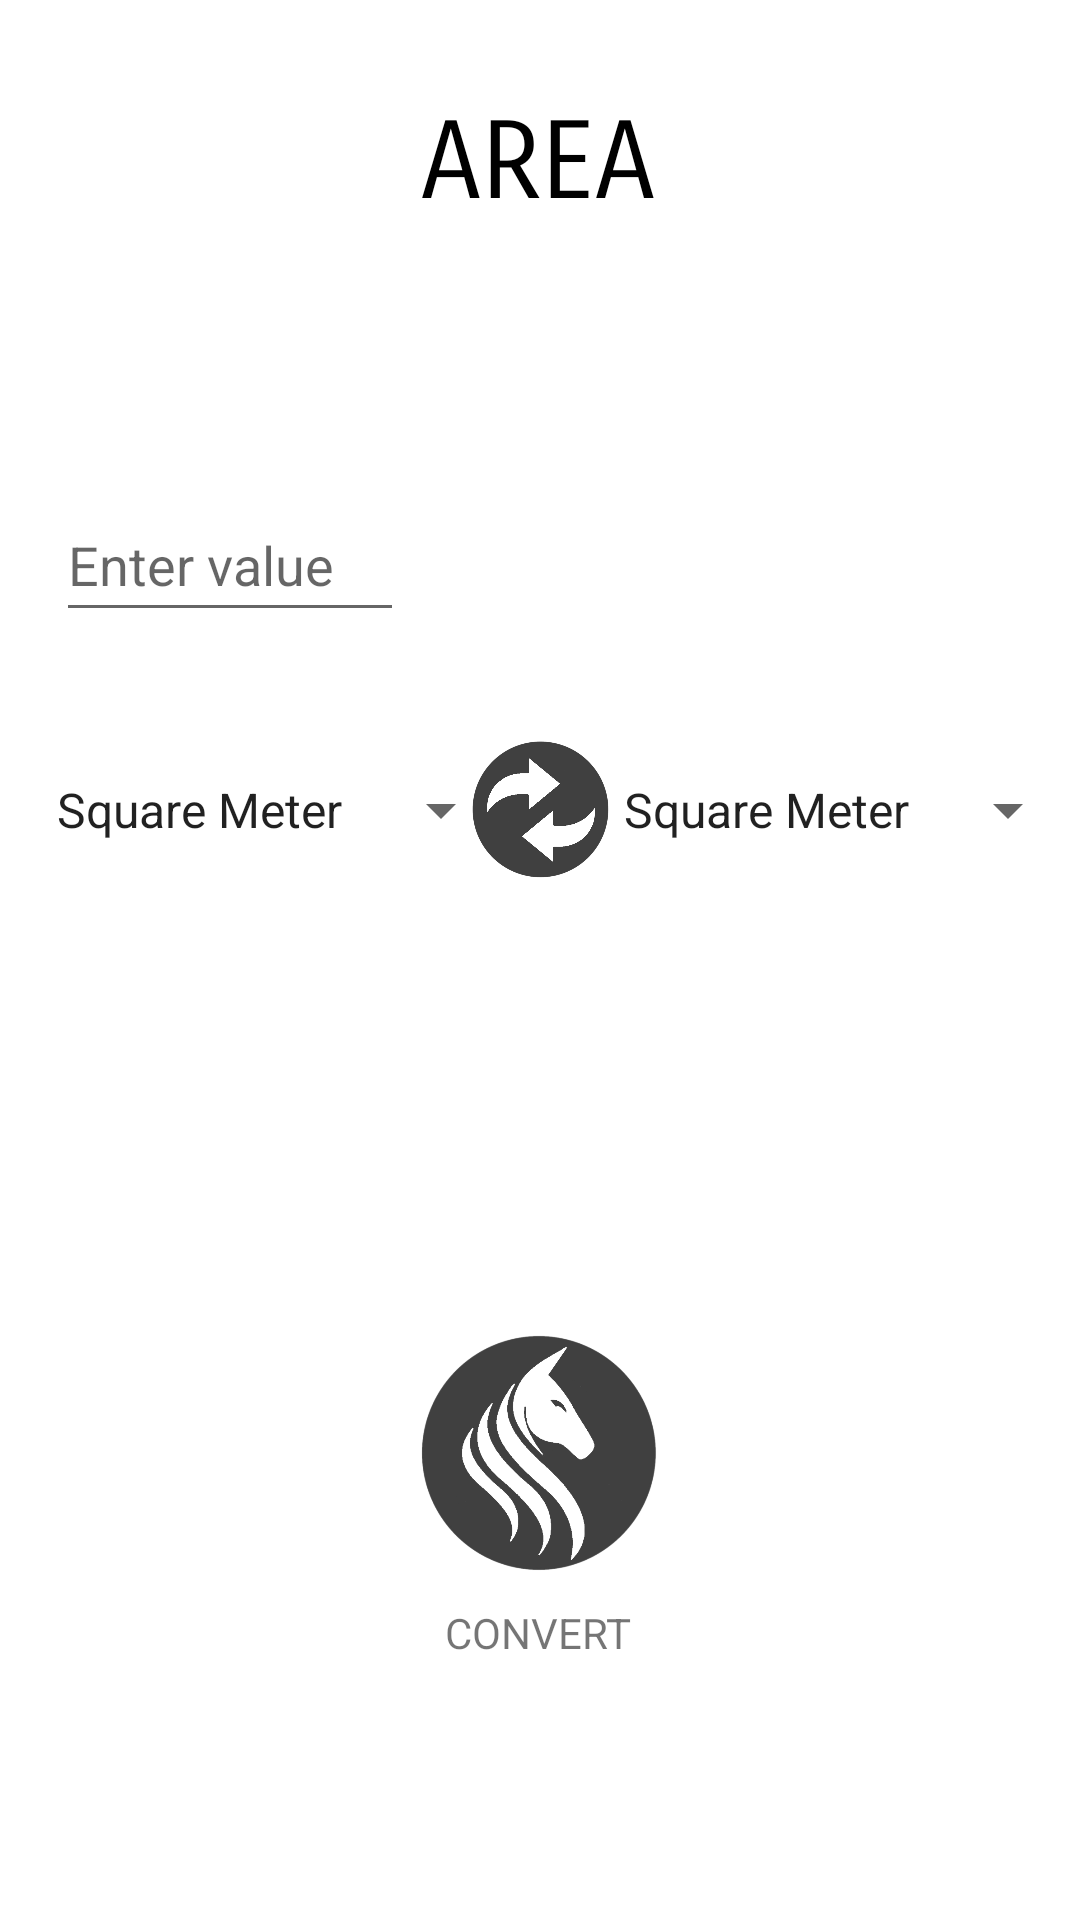

Icons on this 1080w x 1920h Android screen, each with its box as (x1, y1, x2, y2):
swap: (472, 741, 609, 877)
unicon: (422, 1336, 656, 1570)
